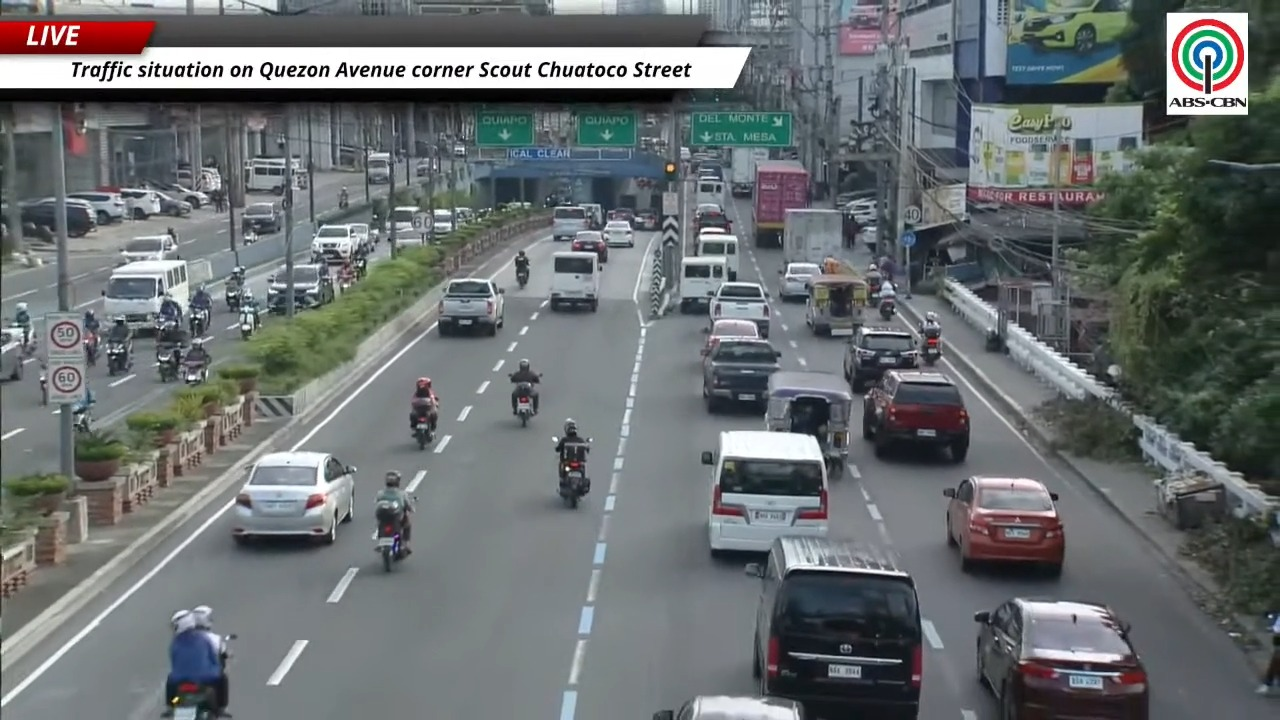car: (746, 537, 923, 719), (974, 598, 1149, 719), (943, 476, 1065, 576), (232, 451, 355, 543), (862, 370, 969, 462), (1013, 0, 1130, 55), (702, 337, 780, 412), (842, 326, 918, 392), (438, 278, 504, 336), (652, 695, 803, 719), (708, 283, 771, 338), (267, 265, 335, 313), (701, 319, 757, 356), (67, 191, 124, 225), (311, 225, 360, 263), (118, 234, 179, 264), (146, 180, 210, 208), (779, 262, 820, 301), (0, 326, 24, 381), (241, 202, 282, 234), (121, 188, 162, 219), (571, 230, 607, 264), (19, 201, 56, 233), (164, 184, 210, 208), (153, 191, 192, 217), (694, 206, 731, 232), (602, 220, 634, 247), (348, 223, 374, 251), (606, 208, 634, 227), (636, 210, 659, 230), (415, 157, 437, 176), (695, 203, 723, 214), (697, 227, 727, 237), (453, 143, 466, 157)
motorcycle: (169, 682, 218, 719), (373, 517, 404, 571), (558, 459, 590, 508), (413, 403, 434, 450), (106, 342, 130, 375), (516, 382, 534, 426), (156, 348, 179, 382), (922, 337, 942, 367), (189, 307, 209, 337), (183, 361, 206, 385), (240, 308, 257, 339), (83, 332, 98, 366), (224, 283, 242, 311), (72, 407, 91, 433), (154, 317, 178, 336), (879, 297, 895, 320), (39, 367, 48, 405), (354, 256, 367, 279), (516, 268, 529, 289), (242, 231, 257, 245), (339, 194, 349, 208)
truck: (752, 160, 811, 248), (783, 208, 843, 264), (729, 148, 768, 197)
